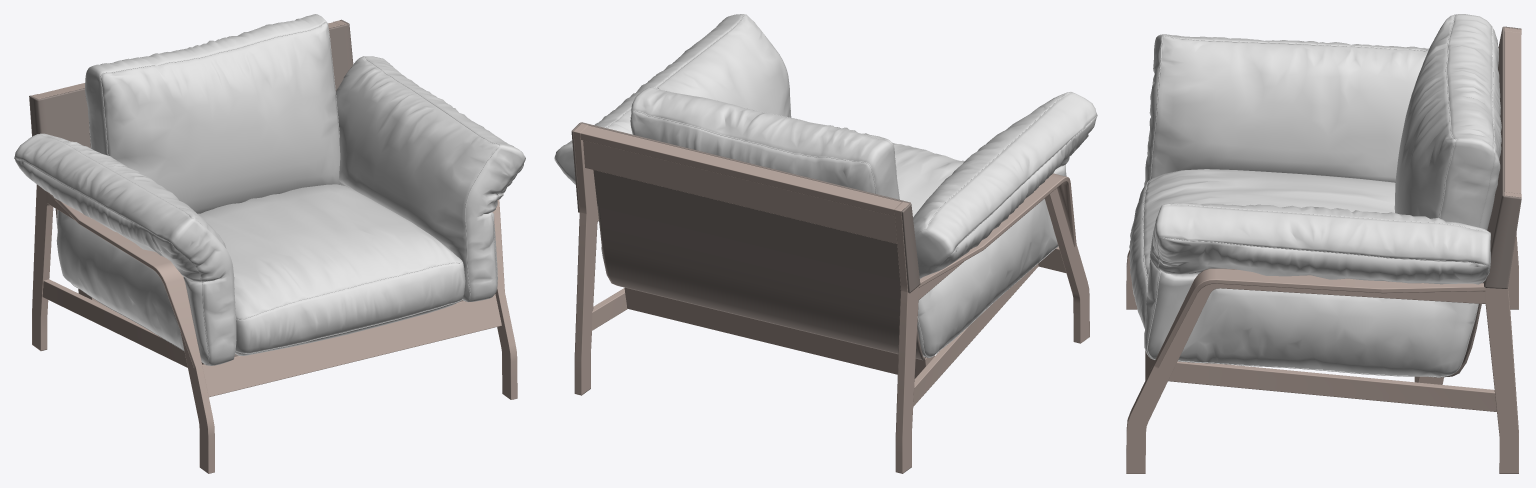
3 views of the same model, side by side, from view 1: azimuth 30°, elevation 25°; view 2: azimuth 150°, elevation 25°; view 3: azimuth 270°, elevation 25° (orthographic). The views are drawn at different scales.
Visible parts, largest first — view 1: Geom3D (×3); view 2: Geom3D (×3); view 3: Geom3D (×3).
Boxes of the visible parts, <box> form: Geom3D (×3): <box>14,14,525,473</box>; Geom3D (×3): <box>554,14,1097,473</box>; Geom3D (×3): <box>1126,14,1521,473</box>.
Bounding box in the file's own units: 1.14 × 0.823 × 0.9334.
